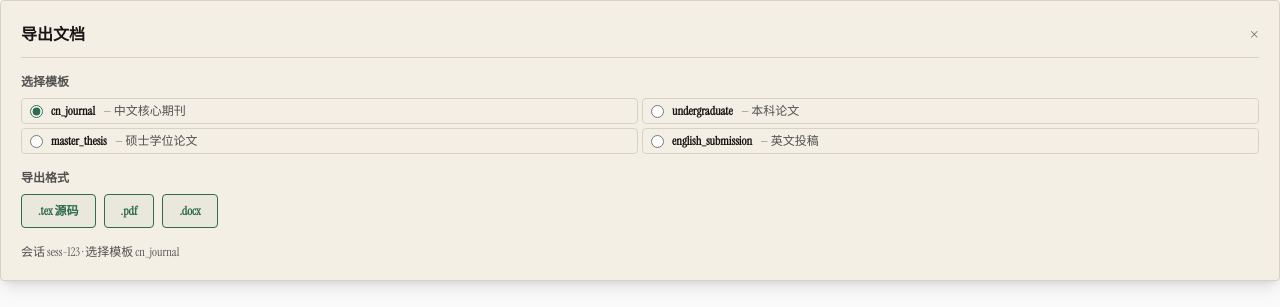
DocExportDialog 文档导出对话框 › 可选择 master_thesis 模板
Click the radio button with test id "template-option" showing "master_thesis — 硕士学位论文" at (36, 141), box [30,134,43,148]
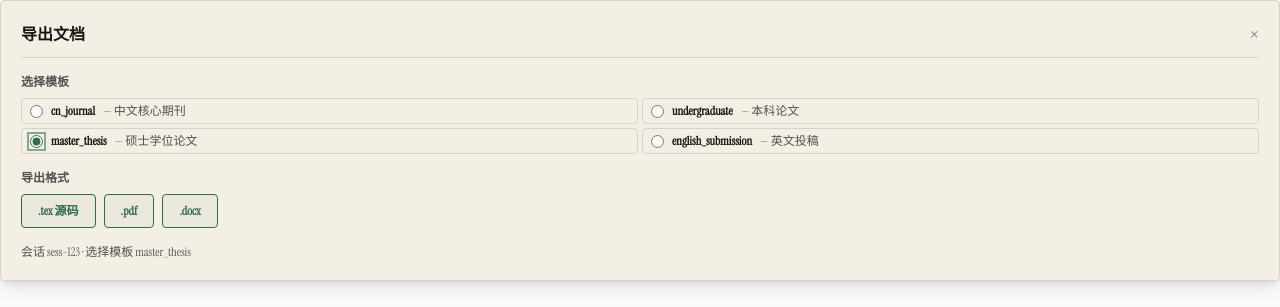
Expected: the radio button with test id "template-option" showing "master_thesis — 硕士学位论文" is checked, [30,134,43,148]
Expected: the radio button with test id "template-option" showing "cn_journal — 中文核心期刊" is not checked, [30,104,43,118]
